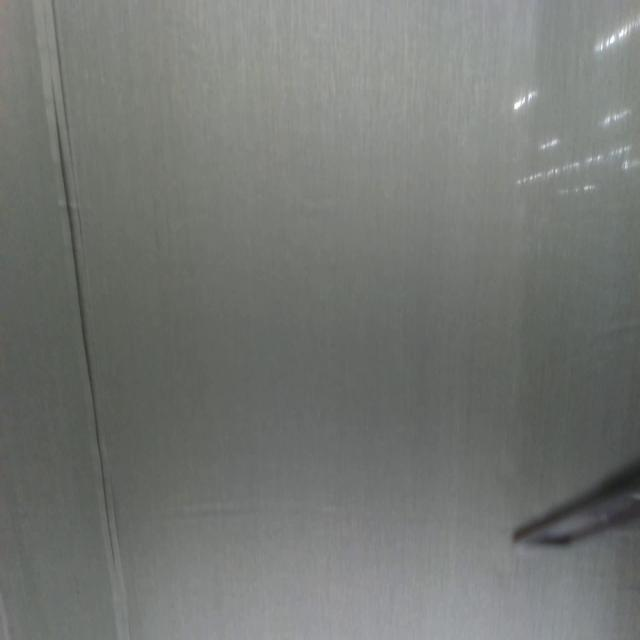crease: (32, 1, 132, 640)
